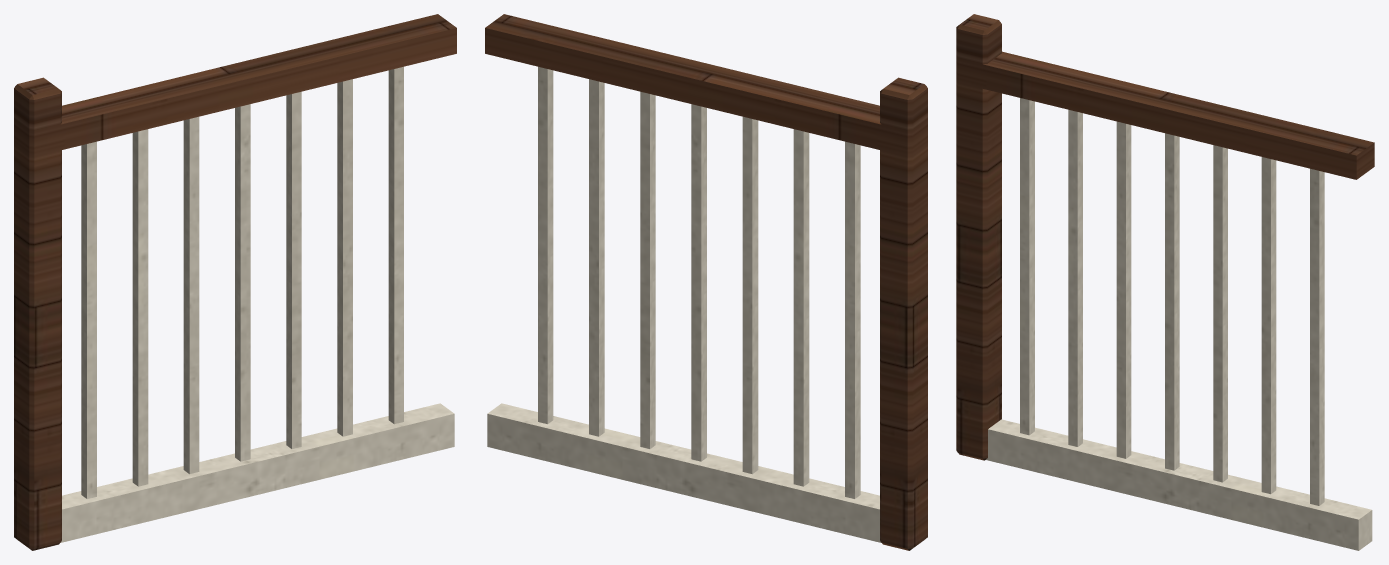
Rendered from rail_100_10.glb.
3 views of the same model, side by side, from view 1: azimuth 30°, elevation 25°; view 2: azimuth 150°, elevation 25°; view 3: azimuth 330°, elevation 25° (orthographic). The views are drawn at different scales.
Parts seen in each view (by area): view 1: rail_100_10_trim, rail_100_10_wood; view 2: rail_100_10_trim, rail_100_10_wood; view 3: rail_100_10_trim, rail_100_10_wood.
Part boxes in pixels (x1,y1,x2,y2): rail_100_10_trim: [60, 66, 454, 542]; rail_100_10_wood: [14, 14, 456, 550]; rail_100_10_trim: [487, 66, 881, 542]; rail_100_10_wood: [485, 14, 927, 550]; rail_100_10_trim: [986, 98, 1372, 550]; rail_100_10_wood: [956, 14, 1374, 460].
Bounding box in the file's own units: 1.04 × 1.06 × 0.08.
2 materials, 2 textured.
